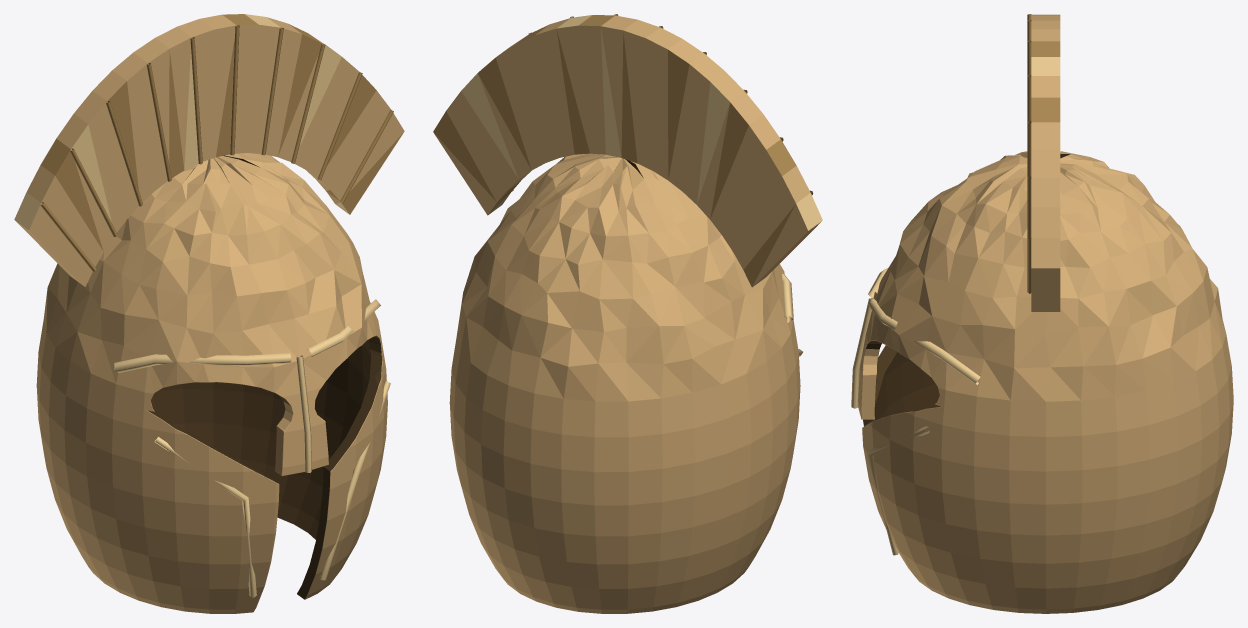
File: transverse.glb
The picture shows the model from 3 angles, left to right: view 1: azimuth 30°, elevation 25°; view 2: azimuth 150°, elevation 25°; view 3: azimuth 270°, elevation 25°; orthographic projection.
Visible parts, largest first — view 1: Hollow helmet shell.002, Radial fan crest.002, Sculpted brow.004, Cheek ridge.004, Nasal spine.002, Cheek ridge.005, Sculpted brow.005, Crest vane.024, Crest vane.025, Crest vane.023, Crest vane.026, Crest vane.022 (+1 smaller); view 2: Hollow helmet shell.002, Radial fan crest.002; view 3: Hollow helmet shell.002, Radial fan crest.002, Sculpted brow.005, Nasal spine.002, Cheek ridge.005.
Boxes of the visible parts, <box> form: Hollow helmet shell.002: <box>36,153,387,613</box>; Radial fan crest.002: <box>14,14,404,286</box>; Sculpted brow.004: <box>114,353,291,372</box>; Cheek ridge.004: <box>154,436,256,597</box>; Nasal spine.002: <box>296,355,311,472</box>; Cheek ridge.005: <box>319,381,390,580</box>; Sculpted brow.005: <box>307,299,380,358</box>; Crest vane.024: <box>230,25,239,155</box>; Crest vane.025: <box>190,37,202,164</box>; Crest vane.023: <box>261,27,283,155</box>; Crest vane.026: <box>146,63,171,181</box>; Crest vane.022: <box>291,44,325,163</box>; Hollow helmet shell.002: <box>449,153,800,613</box>; Radial fan crest.002: <box>433,15,822,287</box>; Hollow helmet shell.002: <box>858,151,1233,613</box>; Radial fan crest.002: <box>1031,14,1060,311</box>; Sculpted brow.005: <box>868,298,981,384</box>; Nasal spine.002: <box>851,298,875,408</box>; Cheek ridge.005: <box>867,426,929,555</box>.
Size of the model in its own units: 1.63 by 2.21 by 1.45.
